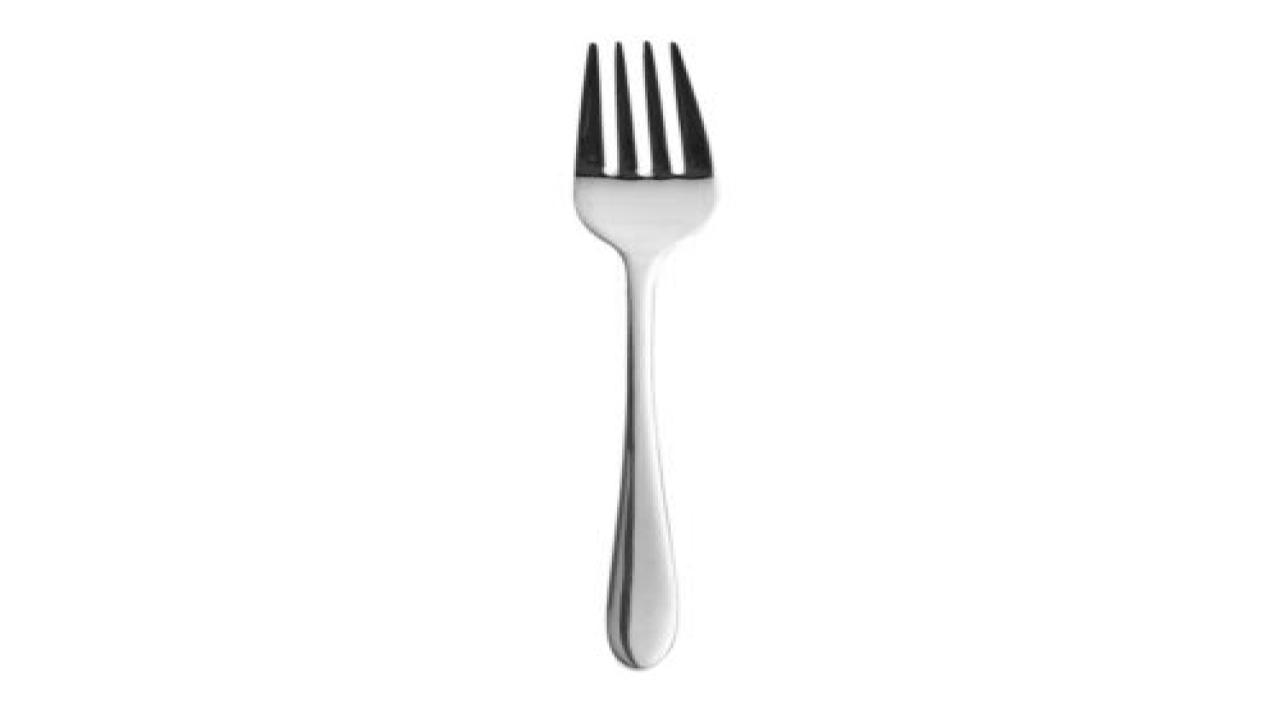fork: (568, 39, 717, 668)
